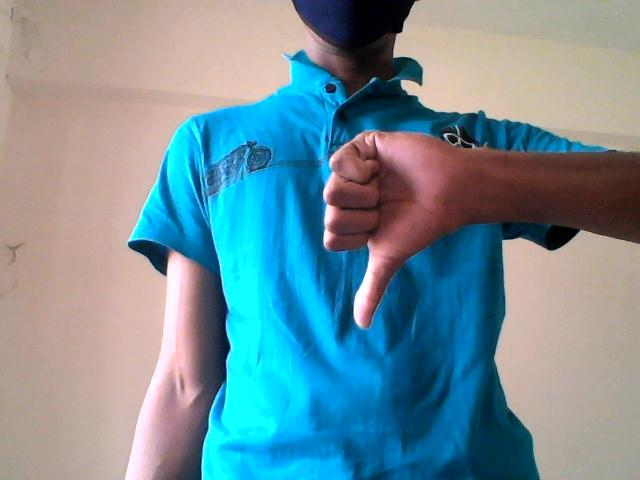thumbs-down: (293, 118, 511, 339)
